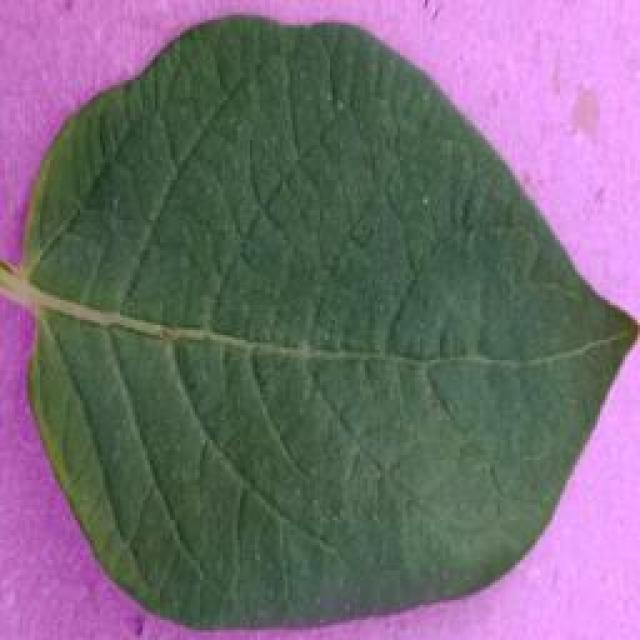Potato_Healthy: (10, 14, 628, 627)
